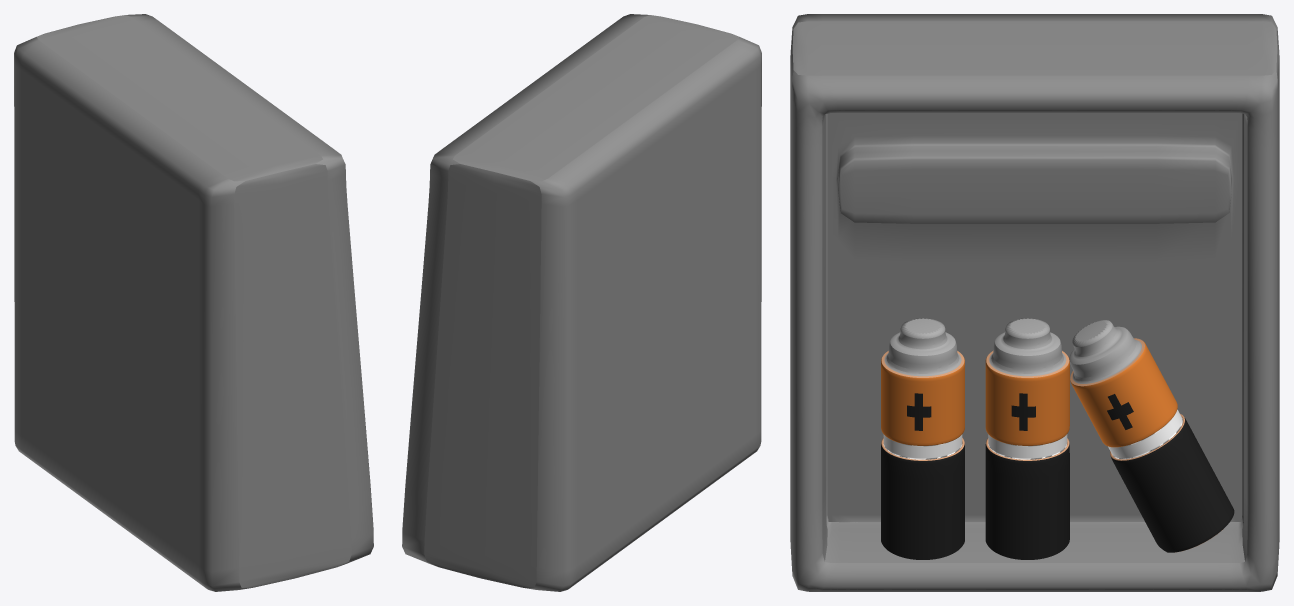
Rendered from battery.fbx.
3 renders of one model, left to right at view 1: azimuth 30°, elevation 25°; view 2: azimuth 150°, elevation 25°; view 3: azimuth 270°, elevation 25°, orthographic. The views are drawn at different scales.
Parts seen in each view (by area): view 1: Cube; view 2: Cube; view 3: Cube, Cylinder.002, Cylinder, Cylinder.001.
Boxes of the visible parts, bbox=[...] form: Cube: bbox=[14, 14, 373, 591]; Cube: bbox=[402, 14, 761, 591]; Cube: bbox=[790, 14, 1279, 591]; Cylinder.002: bbox=[1069, 320, 1234, 552]; Cylinder: bbox=[985, 318, 1069, 559]; Cylinder.001: bbox=[881, 318, 964, 559].
Size of the model in its own units: 59.27 by 139 by 124.
